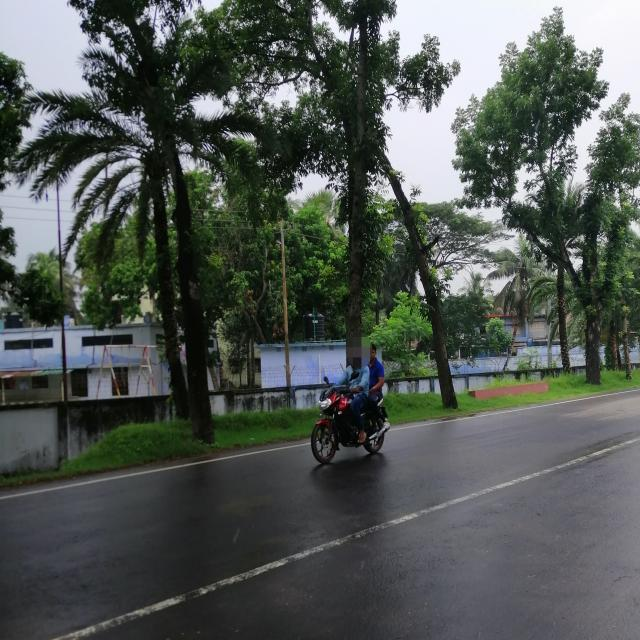Motorbike: (308, 379, 398, 469)
